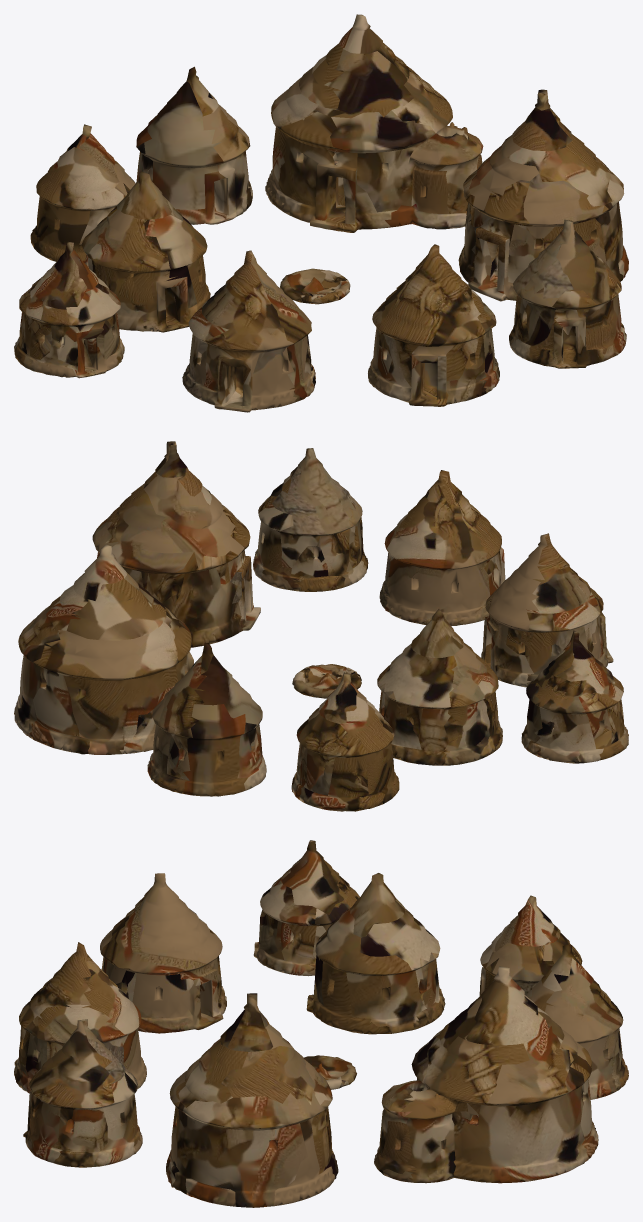
Rendered from Ancient Village (East African).fbx.
3 renders of one model, top to bottom at view 1: azimuth 30°, elevation 25°; view 2: azimuth 150°, elevation 25°; view 3: azimuth 270°, elevation 25°, orthographic. The views are drawn at different scales.
Visible parts, largest first — view 1: tripo_node_1e49e195; view 2: tripo_node_1e49e195; view 3: tripo_node_1e49e195.
Boxes of the visible parts, box(x1,y1,x2,y2) form: tripo_node_1e49e195: box(14, 14, 628, 412); tripo_node_1e49e195: box(14, 441, 628, 811); tripo_node_1e49e195: box(14, 840, 628, 1207).
Size of the model in its own units: 1 by 0.2968 by 0.9318.
